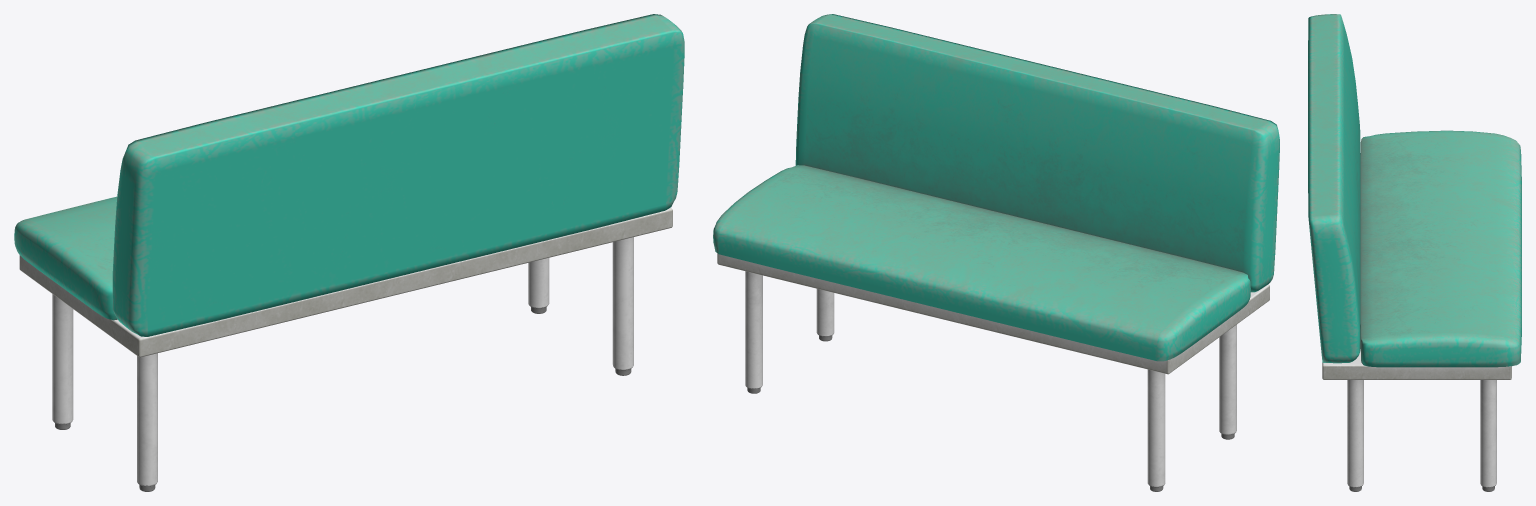
File: Chair_A.fbx
3 views of the same model, side by side, from view 1: azimuth 30°, elevation 25°; view 2: azimuth 150°, elevation 25°; view 3: azimuth 270°, elevation 25° (orthographic). The views are drawn at different scales.
Parts seen in each view (by area): view 1: Chair_A_01; view 2: Chair_A_01; view 3: Chair_A_01.
Part boxes in pixels (<box>): Chair_A_01: <box>14,14,684,491</box>; Chair_A_01: <box>713,14,1279,491</box>; Chair_A_01: <box>1308,14,1521,491</box>.
Size of the model in its own units: 150 by 94.32 by 64.28.
